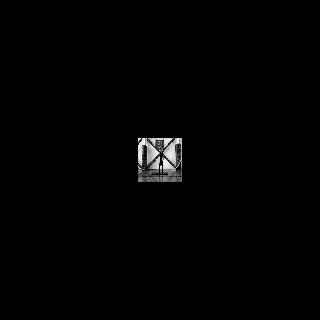kettlebell: (157, 145, 159, 149)
